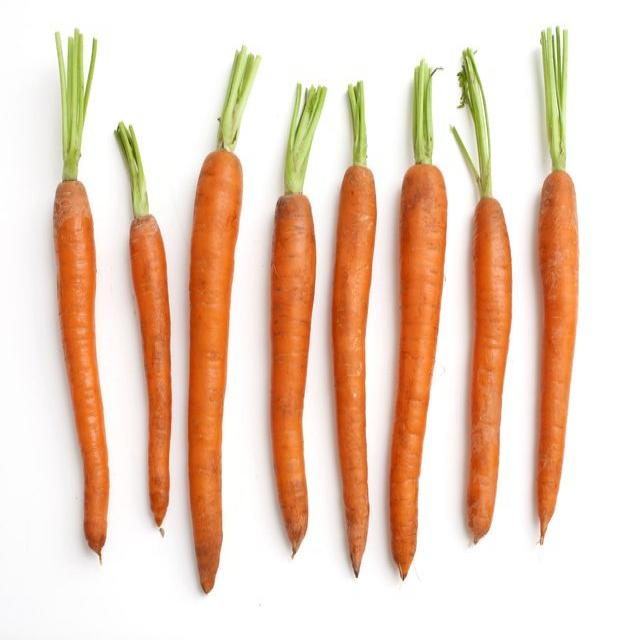Carrot: (186, 150, 247, 595), (389, 162, 448, 581), (51, 180, 112, 565), (330, 165, 379, 583), (265, 191, 319, 558), (534, 173, 580, 550), (468, 195, 514, 555), (124, 213, 174, 538)
